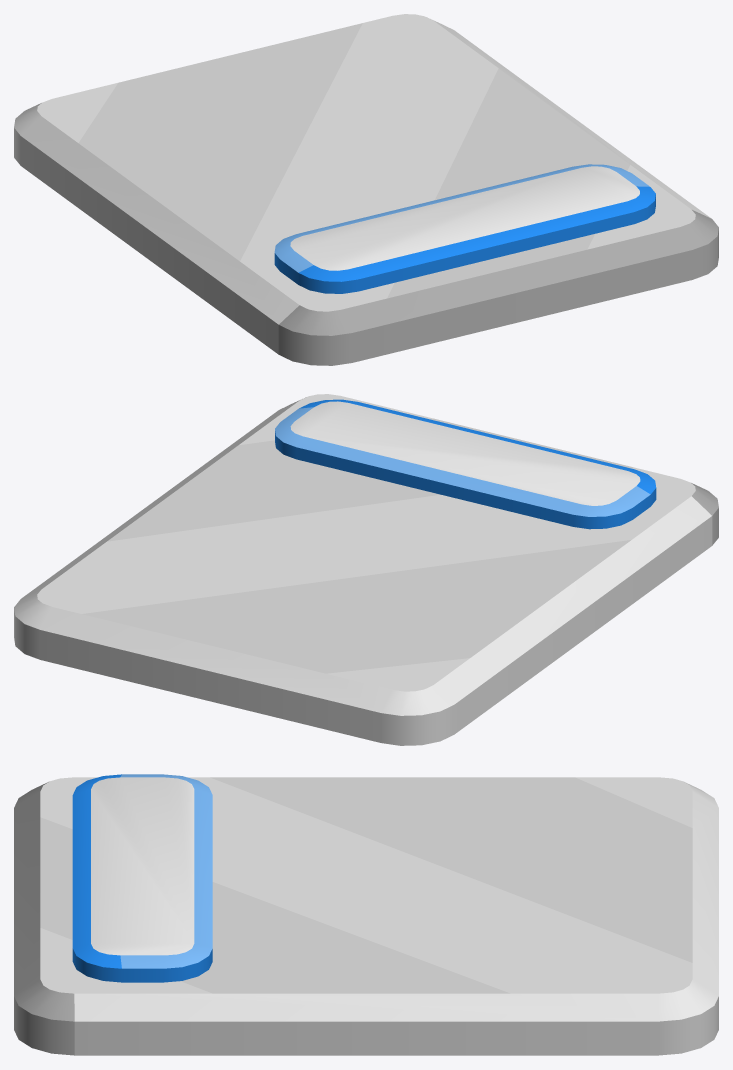
Rendered from MergePlatforms.fbx.
3 views of the same model, one above another, from view 1: azimuth 30°, elevation 25°; view 2: azimuth 150°, elevation 25°; view 3: azimuth 270°, elevation 25° (orthographic). The views are drawn at different scales.
Visible parts, largest first — view 1: Plane.016; view 2: Plane.016; view 3: Plane.016.
Part boxes in pixels (x1=…): Plane.016: x1=14, y1=14, x2=718, y2=365; Plane.016: x1=14, y1=394, x2=718, y2=745; Plane.016: x1=14, y1=774, x2=718, y2=1055.
Size of the model in its own units: 763 by 103 by 950.
